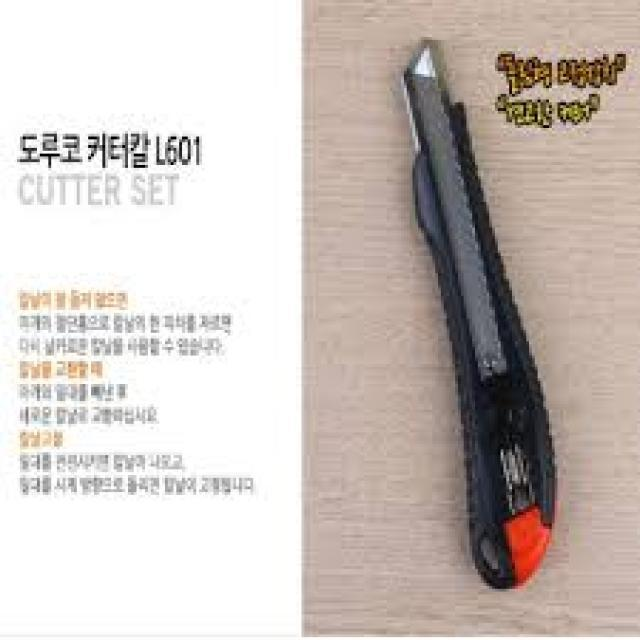cutter: (386, 42, 584, 591)
